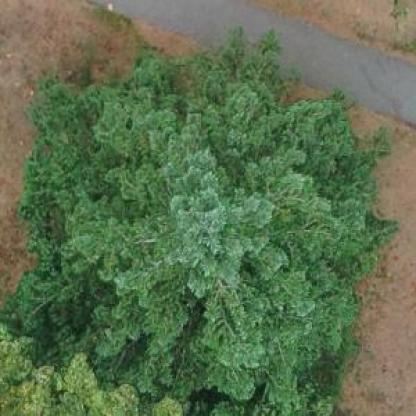Coniferous Tree: (13, 58, 390, 408)
